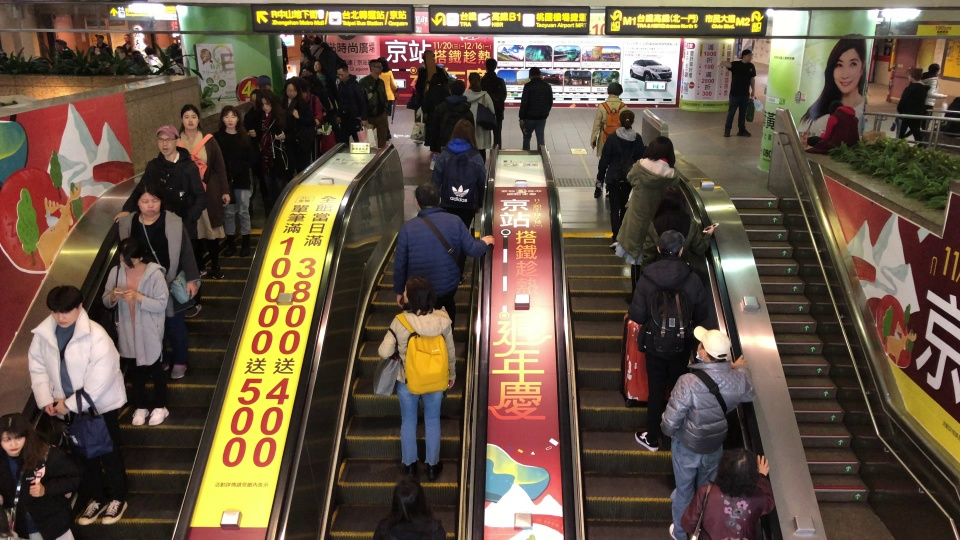person_head: (714, 448, 757, 499), (390, 480, 432, 529), (42, 284, 83, 329), (692, 324, 731, 364), (0, 410, 31, 460), (401, 276, 437, 312), (411, 180, 443, 214), (136, 184, 166, 219), (645, 136, 677, 167), (655, 230, 685, 261), (153, 124, 181, 157), (116, 236, 144, 269), (655, 186, 682, 219), (449, 120, 476, 148), (179, 104, 201, 132), (219, 105, 240, 132), (256, 92, 276, 113), (618, 109, 636, 130), (905, 67, 924, 84), (334, 59, 348, 81), (283, 78, 297, 99), (429, 72, 446, 89), (448, 79, 465, 96), (367, 59, 382, 78), (376, 55, 391, 73), (466, 71, 480, 90), (605, 83, 624, 97), (255, 75, 272, 90), (421, 50, 436, 67), (738, 48, 753, 64), (827, 100, 843, 115), (483, 57, 497, 74), (528, 67, 542, 81), (299, 48, 312, 63), (297, 81, 308, 97), (247, 91, 258, 107), (312, 59, 324, 72), (54, 39, 66, 51), (928, 63, 940, 75), (301, 69, 312, 80), (94, 33, 104, 44), (143, 46, 153, 55), (122, 33, 130, 42), (313, 37, 321, 45), (308, 32, 315, 39)
person_vbox: (26, 284, 133, 526), (112, 123, 210, 318), (658, 324, 745, 539), (628, 228, 706, 451), (116, 184, 203, 380), (393, 180, 496, 345), (376, 275, 458, 481), (103, 236, 172, 427), (614, 136, 680, 298), (0, 406, 77, 540), (173, 104, 231, 279), (679, 448, 776, 539), (211, 104, 261, 258), (598, 109, 650, 248), (639, 186, 715, 271), (430, 119, 487, 229), (255, 90, 296, 215), (369, 480, 448, 540), (590, 82, 629, 198), (716, 46, 756, 138), (904, 62, 947, 144), (430, 78, 476, 152), (515, 65, 554, 152), (282, 78, 317, 173), (890, 66, 931, 147), (332, 59, 369, 147), (463, 70, 496, 165), (357, 59, 392, 143), (479, 56, 508, 150), (806, 99, 860, 148), (376, 56, 397, 141), (414, 50, 447, 103), (300, 68, 331, 119), (295, 79, 327, 128), (423, 71, 451, 108), (242, 88, 258, 139), (311, 58, 332, 93), (90, 32, 113, 61), (142, 45, 163, 72), (298, 48, 315, 73), (54, 38, 75, 58), (309, 36, 325, 58), (306, 31, 320, 47), (120, 32, 132, 50)
